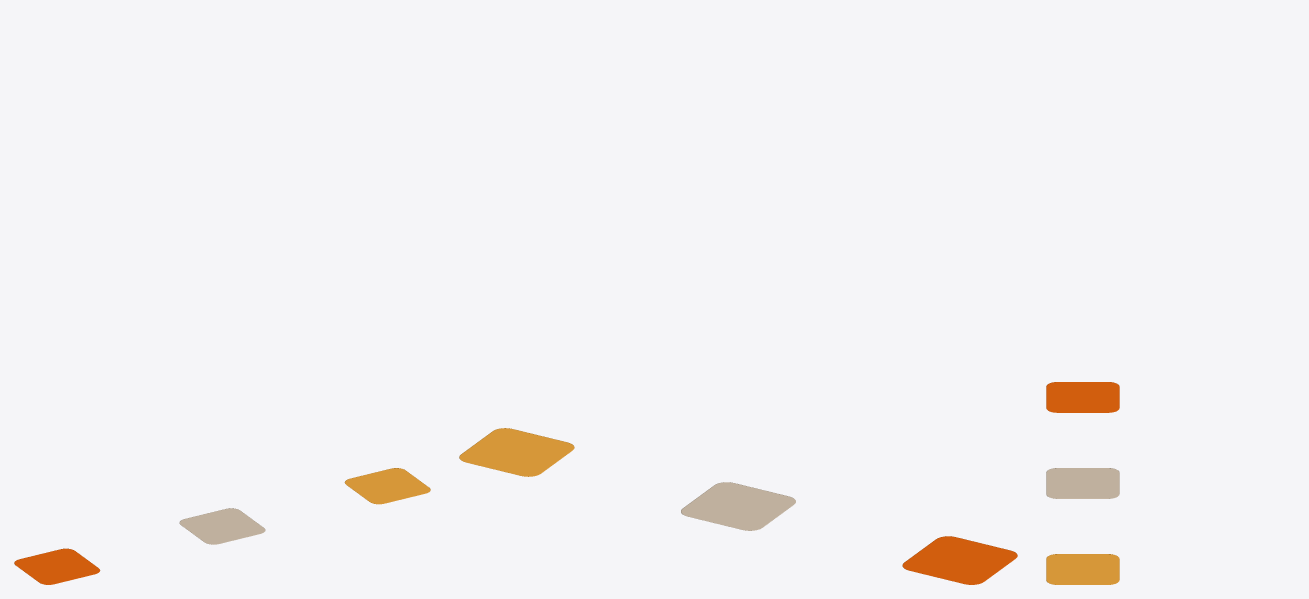
The model's file is recap-3d-attention.glb.
The picture shows the model from 3 angles, left to right: view 1: azimuth 30°, elevation 25°; view 2: azimuth 150°, elevation 25°; view 3: azimuth 270°, elevation 25°; orthographic projection. The views are drawn at different scales.
Visible parts, largest first — view 1: pillar1, pillar2, pillar0; view 2: pillar0, pillar1, pillar2; view 3: pillar1, pillar0, pillar2.
Part boxes in pixels (<box>): pillar1: <box>179,508,265,544</box>; pillar2: <box>344,468,430,504</box>; pillar0: <box>14,548,100,584</box>; pillar0: <box>902,536,1017,584</box>; pillar1: <box>681,482,795,530</box>; pillar2: <box>459,428,574,476</box>; pillar1: <box>1046,468,1119,498</box>; pillar0: <box>1046,382,1119,412</box>; pillar2: <box>1046,554,1119,584</box>.
Size of the model in its own units: 5.9 by 6.7 by 3.05.
